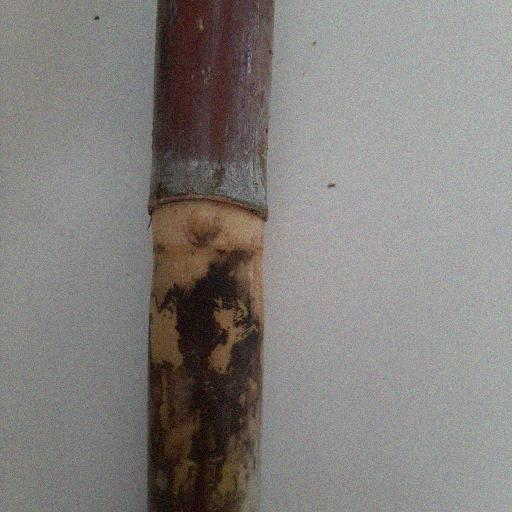Bud: (181, 203, 224, 249)
